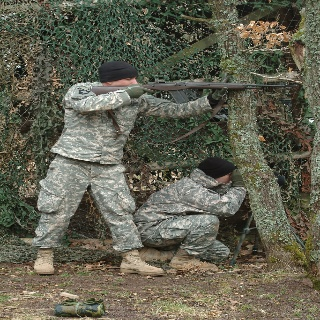rifle: (90, 80, 299, 99)
